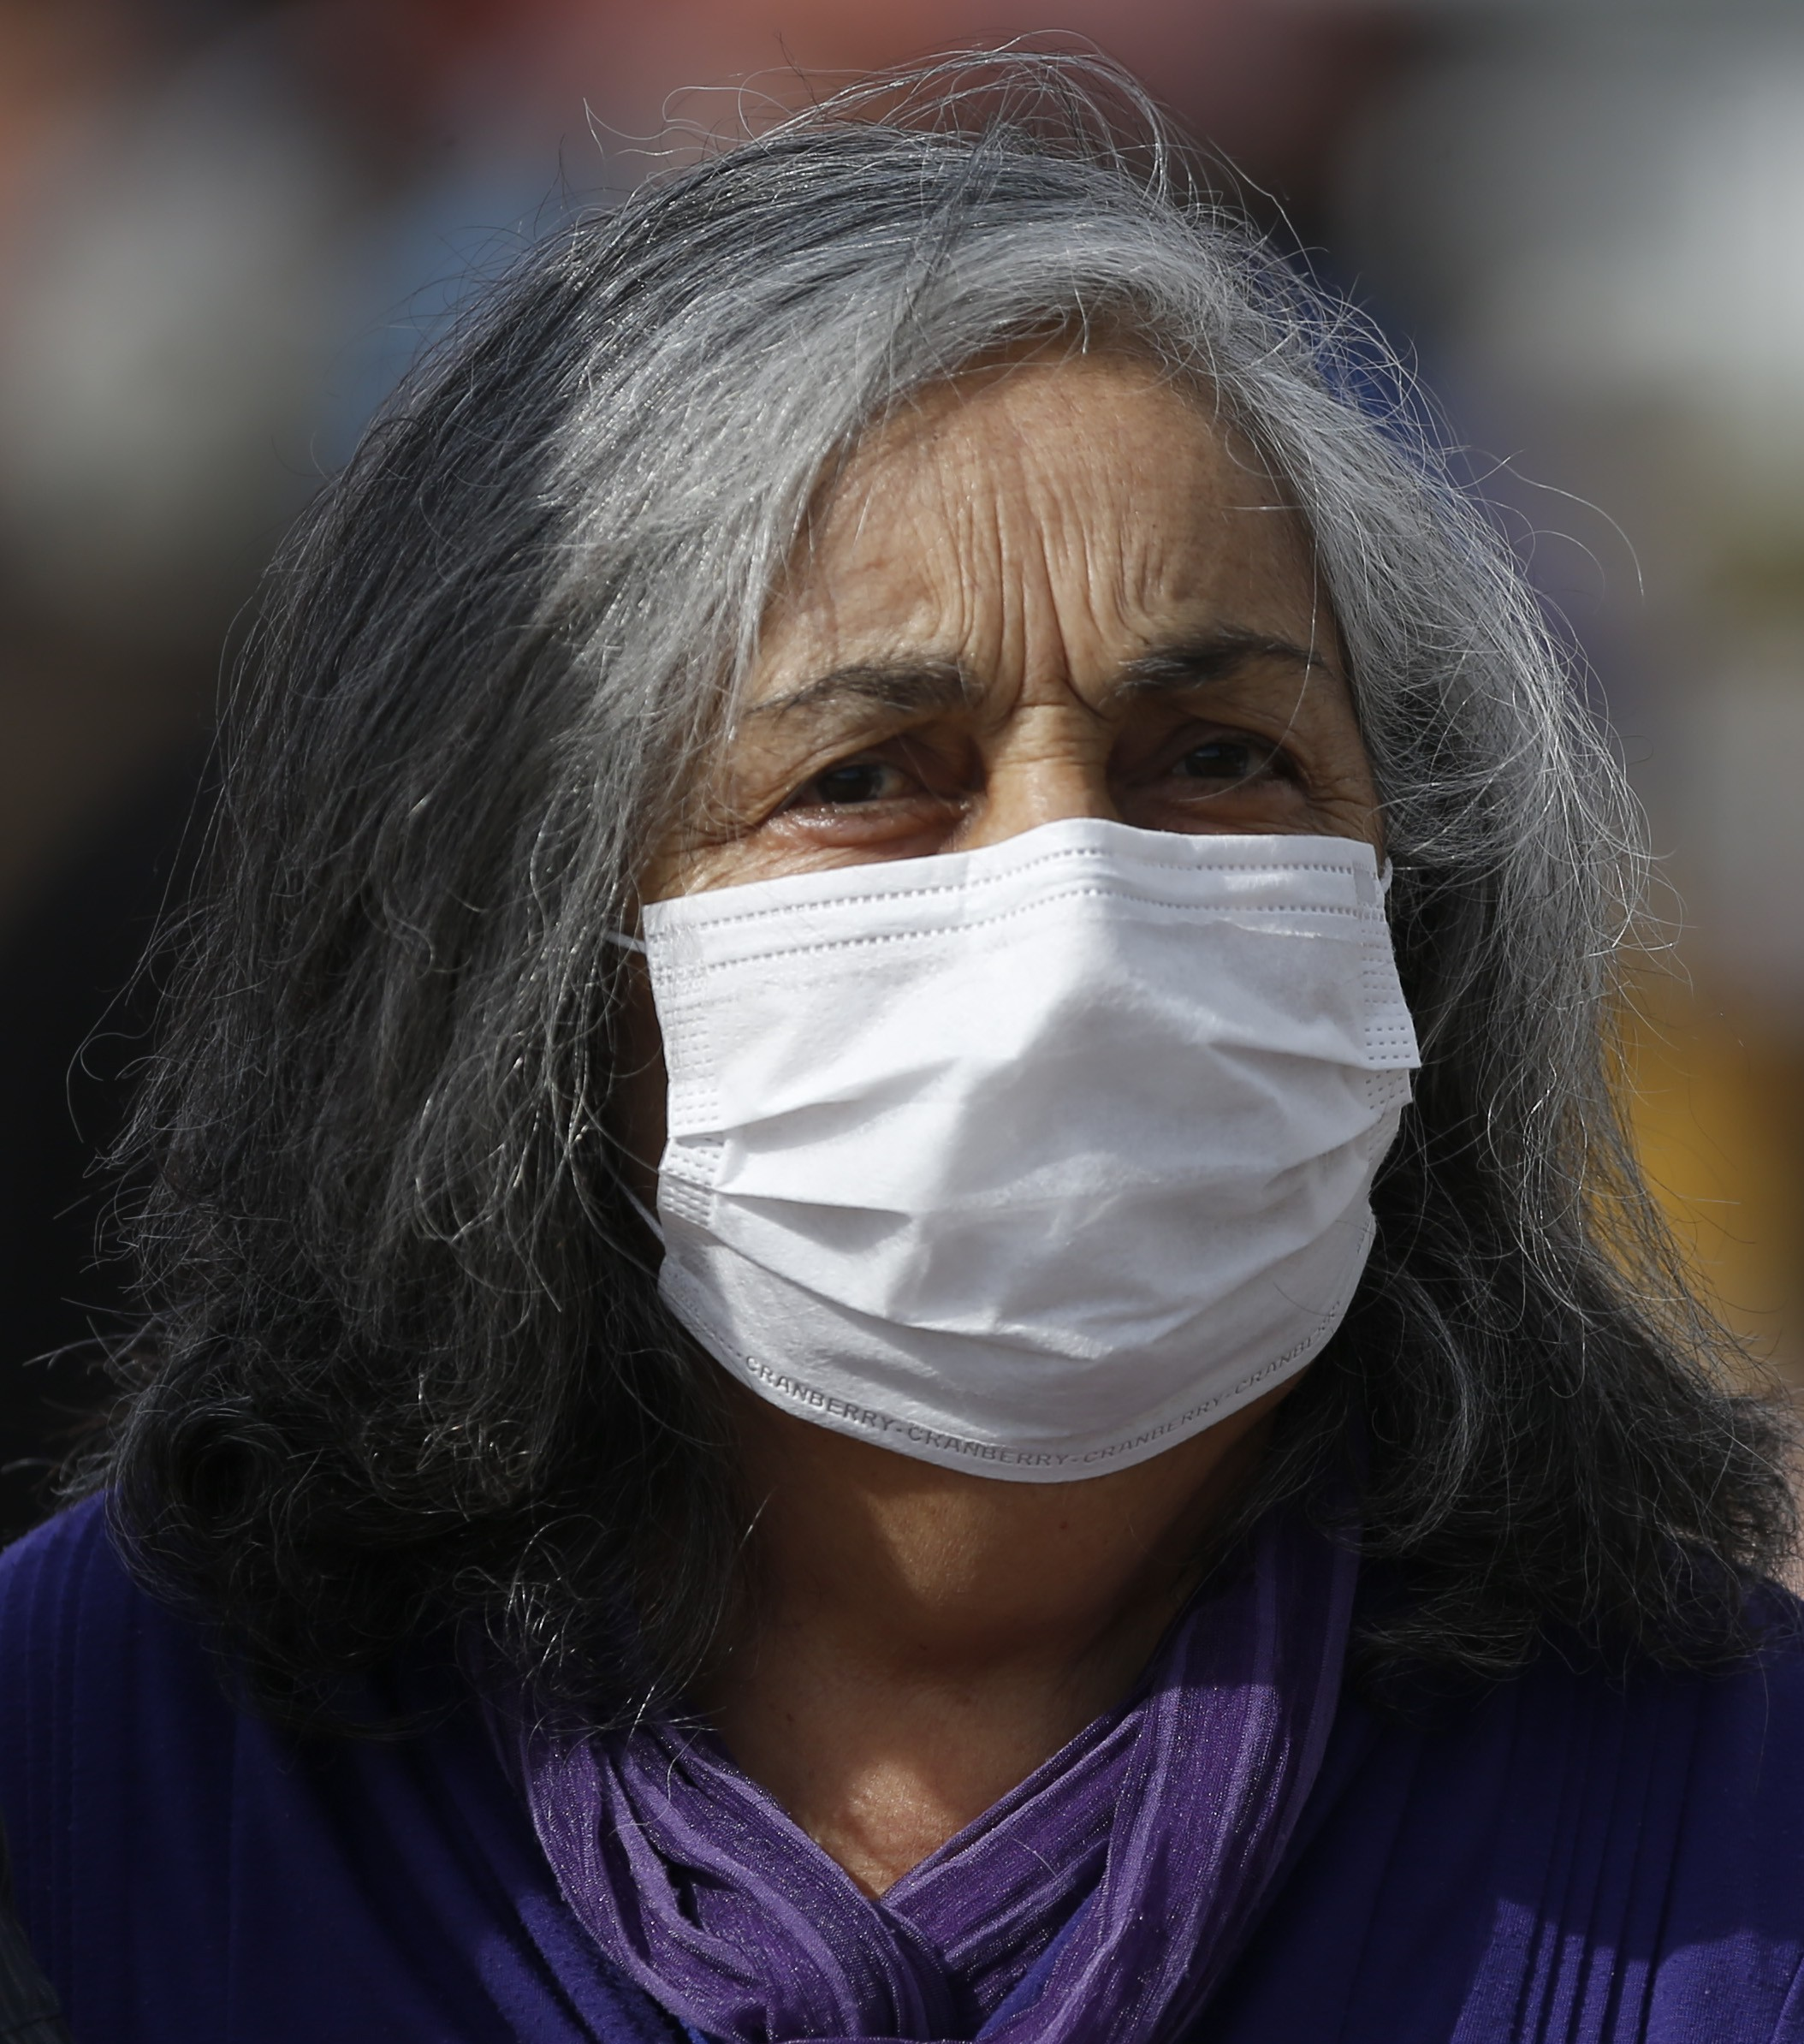with_mask: (412, 265, 1536, 1664)
